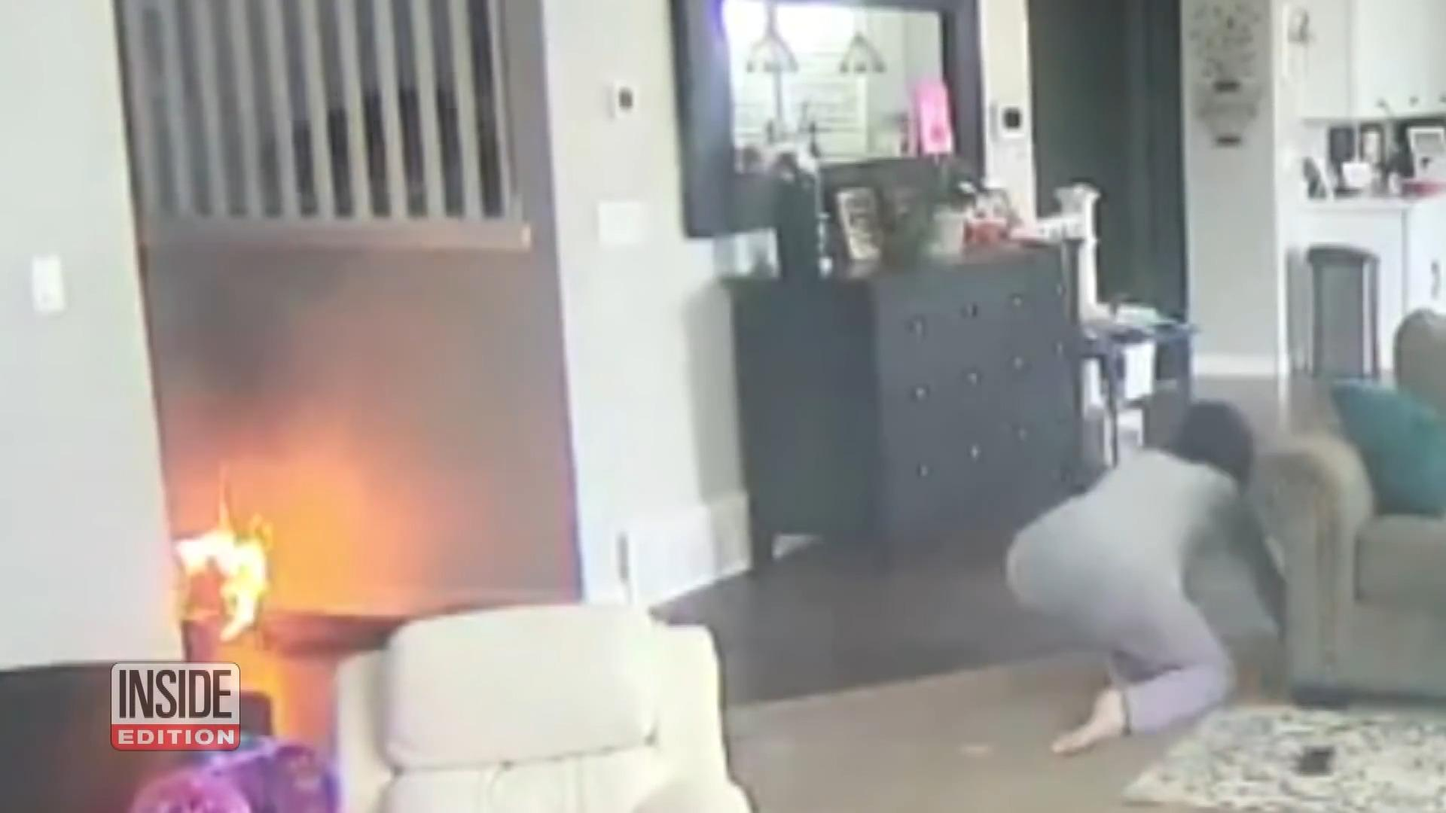fire: (172, 468, 273, 643)
